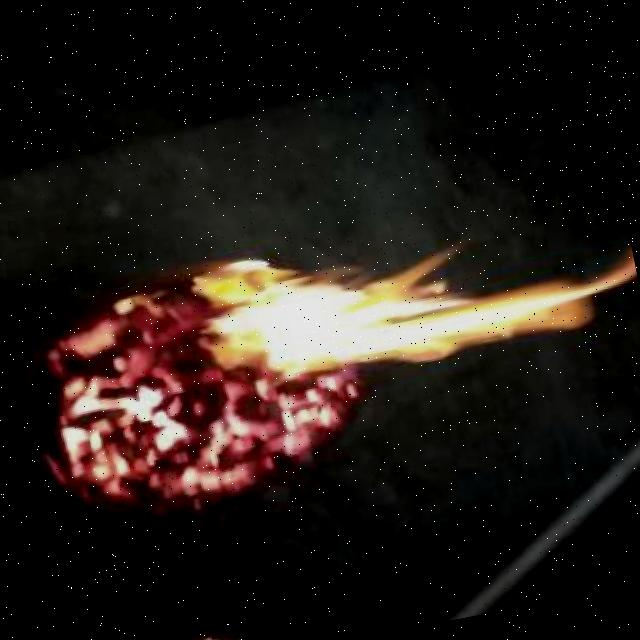fire: (188, 177, 640, 411), (36, 375, 397, 533), (140, 612, 379, 640)
